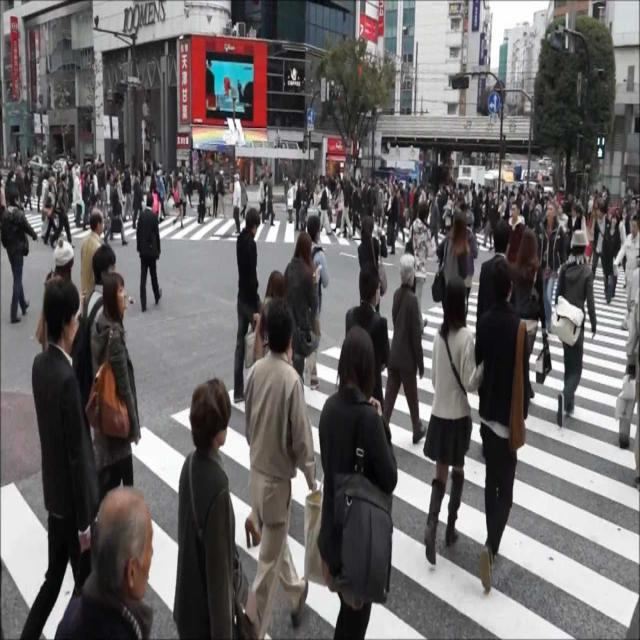body: (16, 277, 100, 640), (314, 321, 400, 639), (242, 298, 318, 640), (354, 169, 610, 264), (172, 372, 258, 639), (472, 263, 532, 594), (422, 272, 486, 566), (54, 485, 154, 640), (66, 150, 220, 243), (83, 273, 142, 493), (245, 268, 288, 550), (473, 219, 515, 442), (554, 228, 598, 430), (383, 251, 427, 446), (344, 265, 391, 421), (232, 206, 264, 404), (512, 227, 548, 398), (0, 148, 62, 247), (0, 182, 42, 327), (81, 243, 118, 402), (281, 169, 355, 243), (614, 291, 640, 489), (284, 231, 317, 380), (35, 235, 75, 354), (430, 208, 472, 318), (306, 214, 331, 392), (537, 200, 567, 335), (134, 191, 164, 312), (612, 212, 640, 332), (357, 213, 389, 314), (408, 199, 432, 332), (79, 209, 105, 308), (48, 172, 76, 252), (614, 185, 640, 269), (461, 210, 479, 325), (601, 212, 621, 304), (110, 176, 126, 246), (171, 169, 185, 230), (222, 74, 245, 110), (231, 170, 243, 236), (216, 169, 228, 220), (266, 169, 276, 228), (258, 172, 266, 228), (240, 174, 248, 222)
